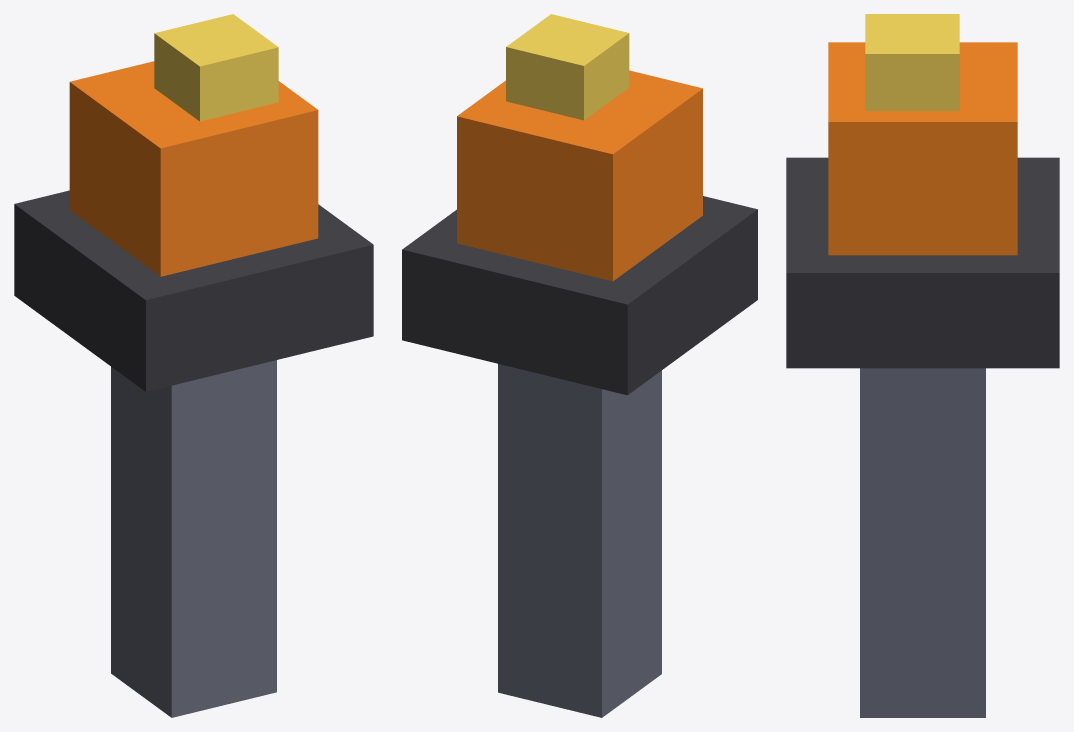
File: Brazier.fbx
3 views of the same model, side by side, from view 1: azimuth 30°, elevation 25°; view 2: azimuth 150°, elevation 25°; view 3: azimuth 270°, elevation 25° (orthographic). The views are drawn at different scales.
Visible parts, largest first — view 1: Brazier; view 2: Brazier; view 3: Brazier.
Boxes of the visible parts, x1,y1,x2,y2 form: Brazier: (14, 14, 373, 717); Brazier: (402, 14, 757, 717); Brazier: (786, 14, 1059, 717).
Bounding box in the file's own units: 2.6 × 7 × 2.6.
2 materials, 2 textured.
